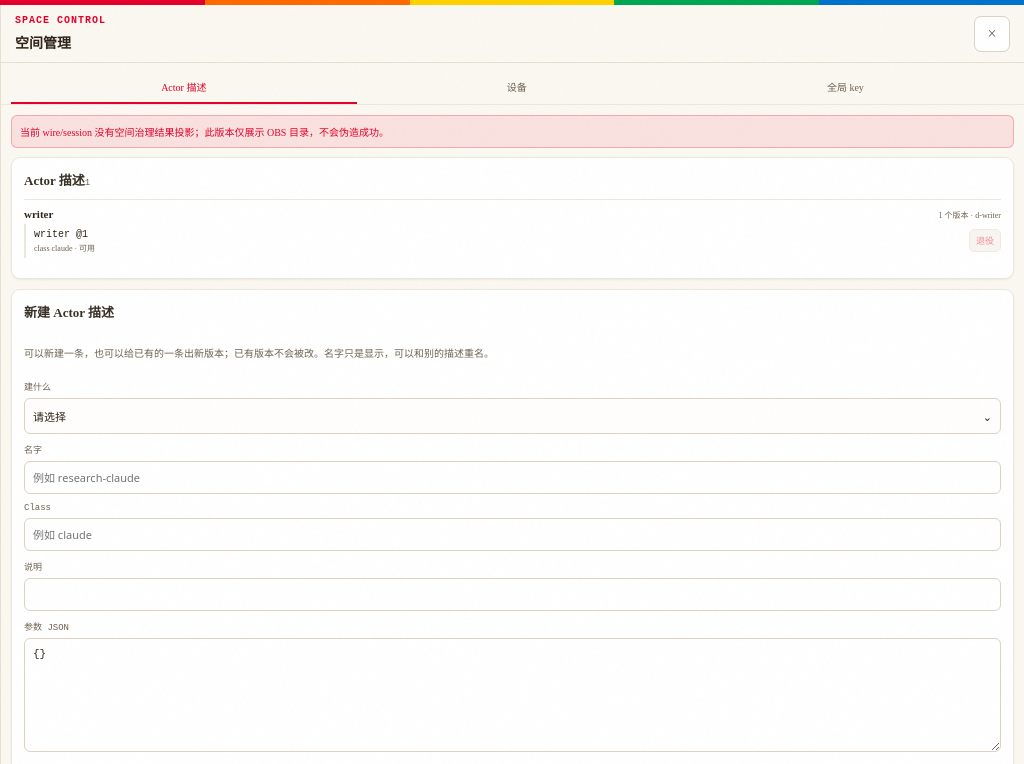
Test case: round 30 space governance unsupported boundary › keeps the unsupported note off the global key tab, which uses the resource door
The width and height of the screenshot is (1024, 764).
Click the tab "全局 key": click(845, 88) [677, 71, 1014, 104]
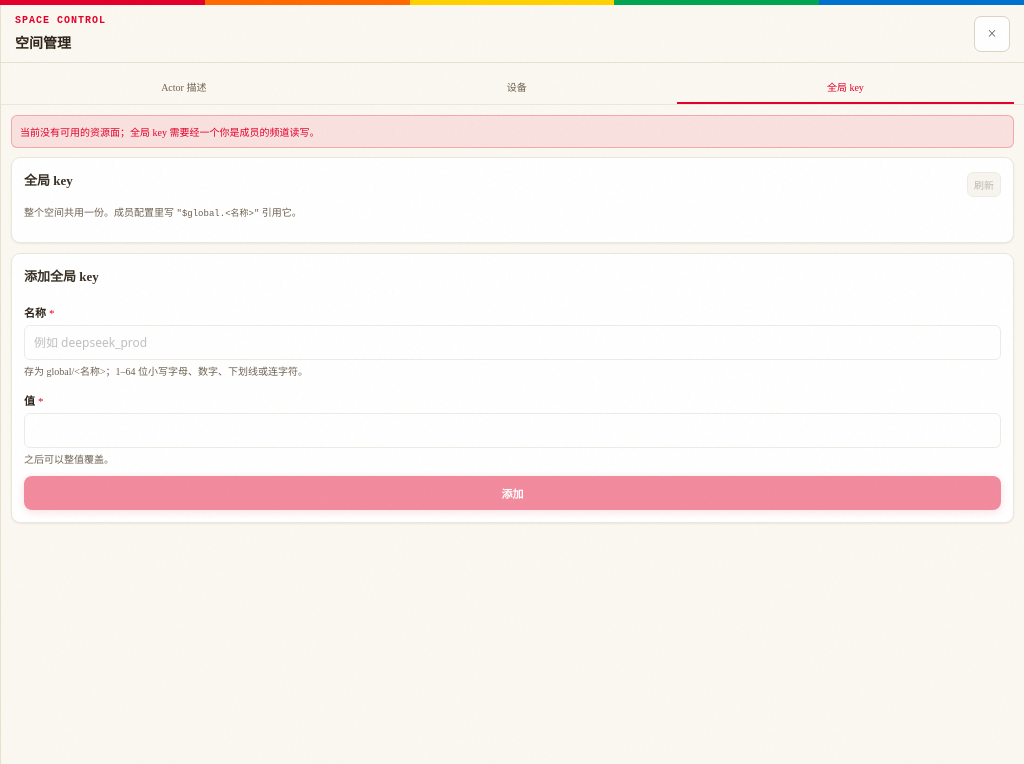
expect the text "当前 wire/session 没有空间治理结果投影；此版本仅展示 OBS 目录，不会伪造成功。" is gone: met
